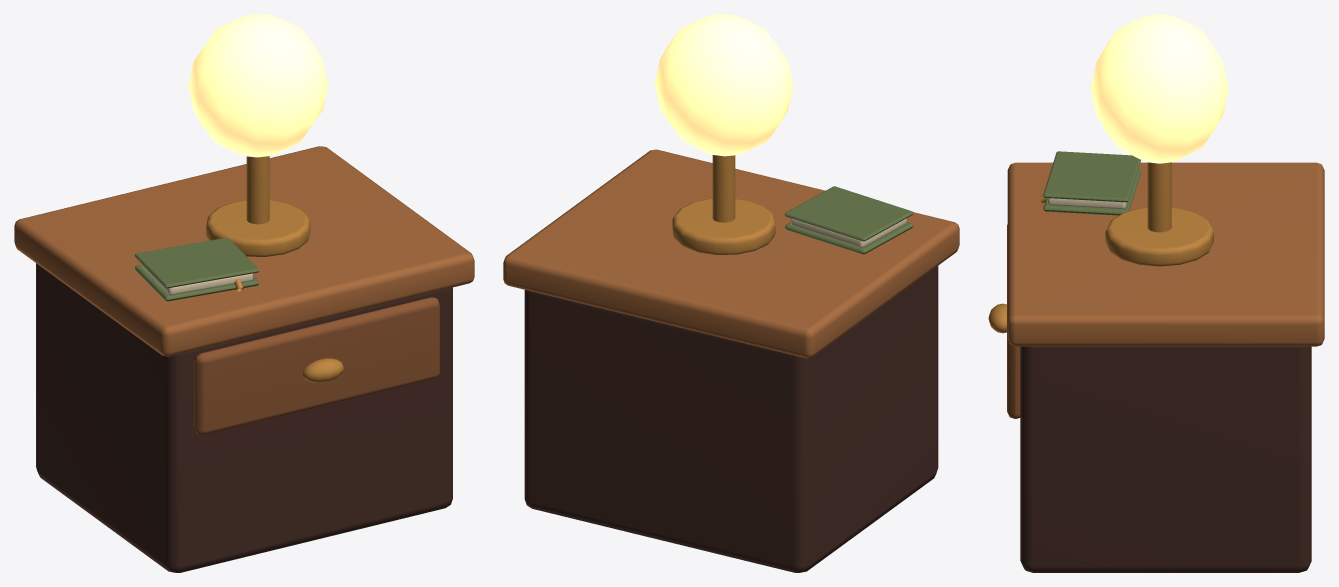
File: bedroom-lamp.glb
The picture shows the model from 3 angles, left to right: view 1: azimuth 30°, elevation 25°; view 2: azimuth 150°, elevation 25°; view 3: azimuth 270°, elevation 25°; orthographic projection. The views are drawn at different scales.
Visible parts, largest first — view 1: bedroom_lamp_pivot_Mesh; view 2: bedroom_lamp_pivot_Mesh; view 3: bedroom_lamp_pivot_Mesh.
Part boxes in pixels (x1,y1,x2,y2): bedroom_lamp_pivot_Mesh: [14, 14, 474, 572]; bedroom_lamp_pivot_Mesh: [503, 14, 959, 572]; bedroom_lamp_pivot_Mesh: [988, 14, 1324, 572].
Size of the model in its own units: 1.17 by 1.69 by 1.05.
